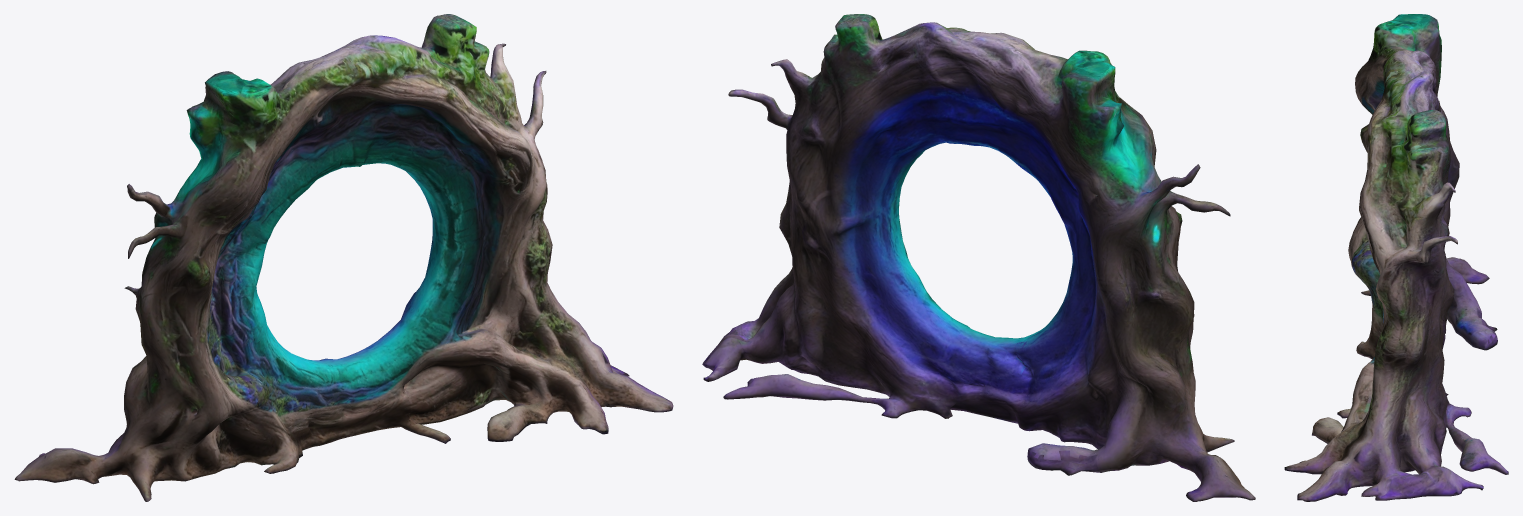
Rendered from mystical_portal.glb.
3 renders of one model, left to right at view 1: azimuth 30°, elevation 25°; view 2: azimuth 150°, elevation 25°; view 3: azimuth 270°, elevation 25°, orthographic. The views are drawn at different scales.
Parts seen in each view (by area): view 1: Object_4; view 2: Object_4; view 3: Object_4.
Boxes of the visible parts, bbox=[...] form: Object_4: bbox=[14, 14, 673, 501]; Object_4: bbox=[702, 14, 1255, 501]; Object_4: bbox=[1284, 14, 1508, 501].
Size of the model in its own units: 1.98 by 1.26 by 0.7768.
1 material, 1 textured.
